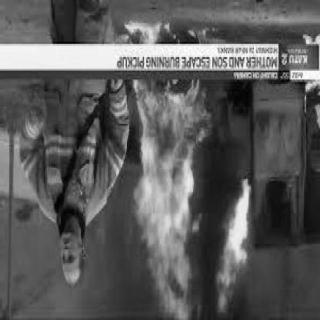Fire: (117, 21, 250, 317)
